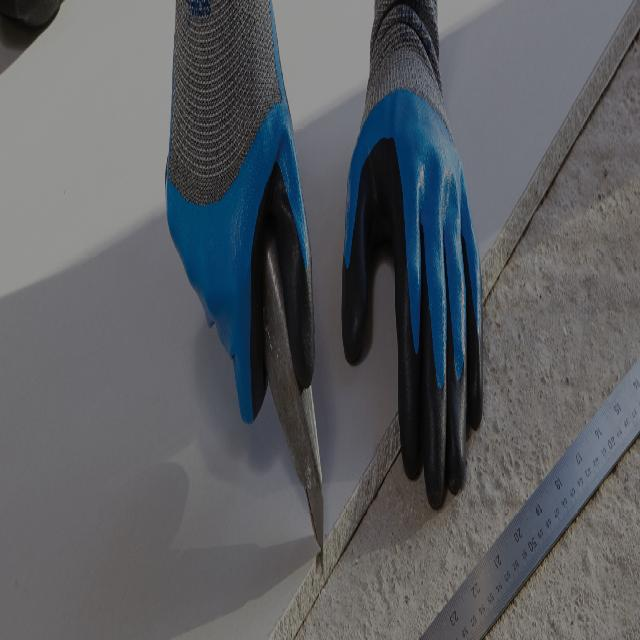gloves: (339, 0, 484, 505), (162, 0, 313, 423)
